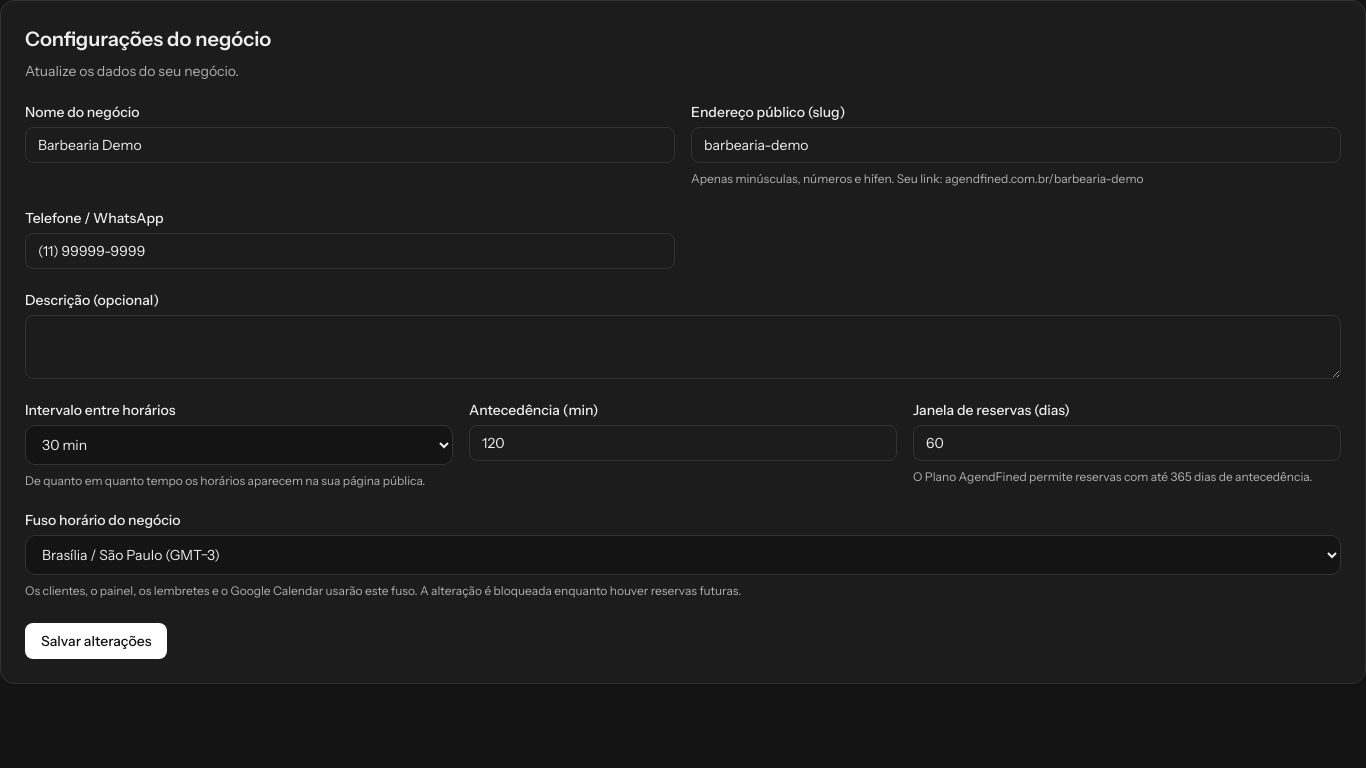
Test: BusinessForm › mantém a dica no aria-describedby dos campos numéricos com erro
The image size is (1366, 768).
Click the button "Salvar alterações".
click(96, 641)  # box [25,623,167,659]
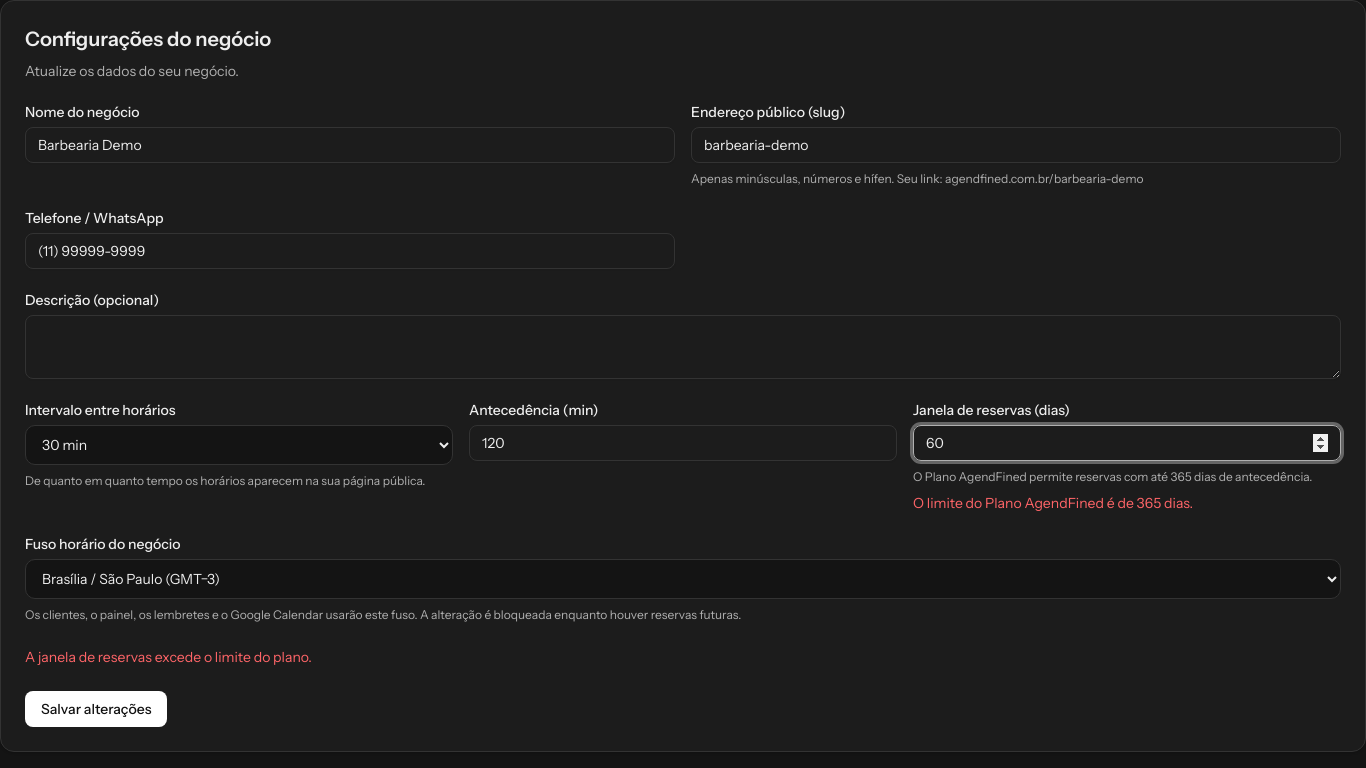
Check: the text "O limite do Plano AgendFined é de 365 dias." is shown, box [913,494,1193,512]
